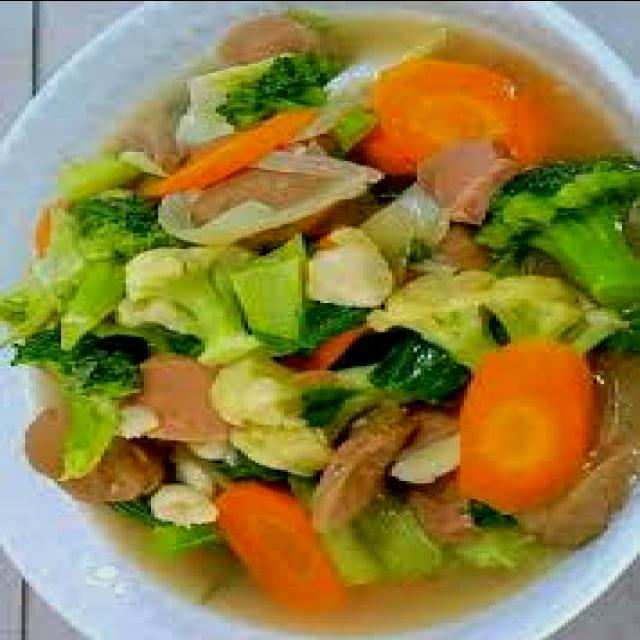capcay: (4, 9, 640, 631)
